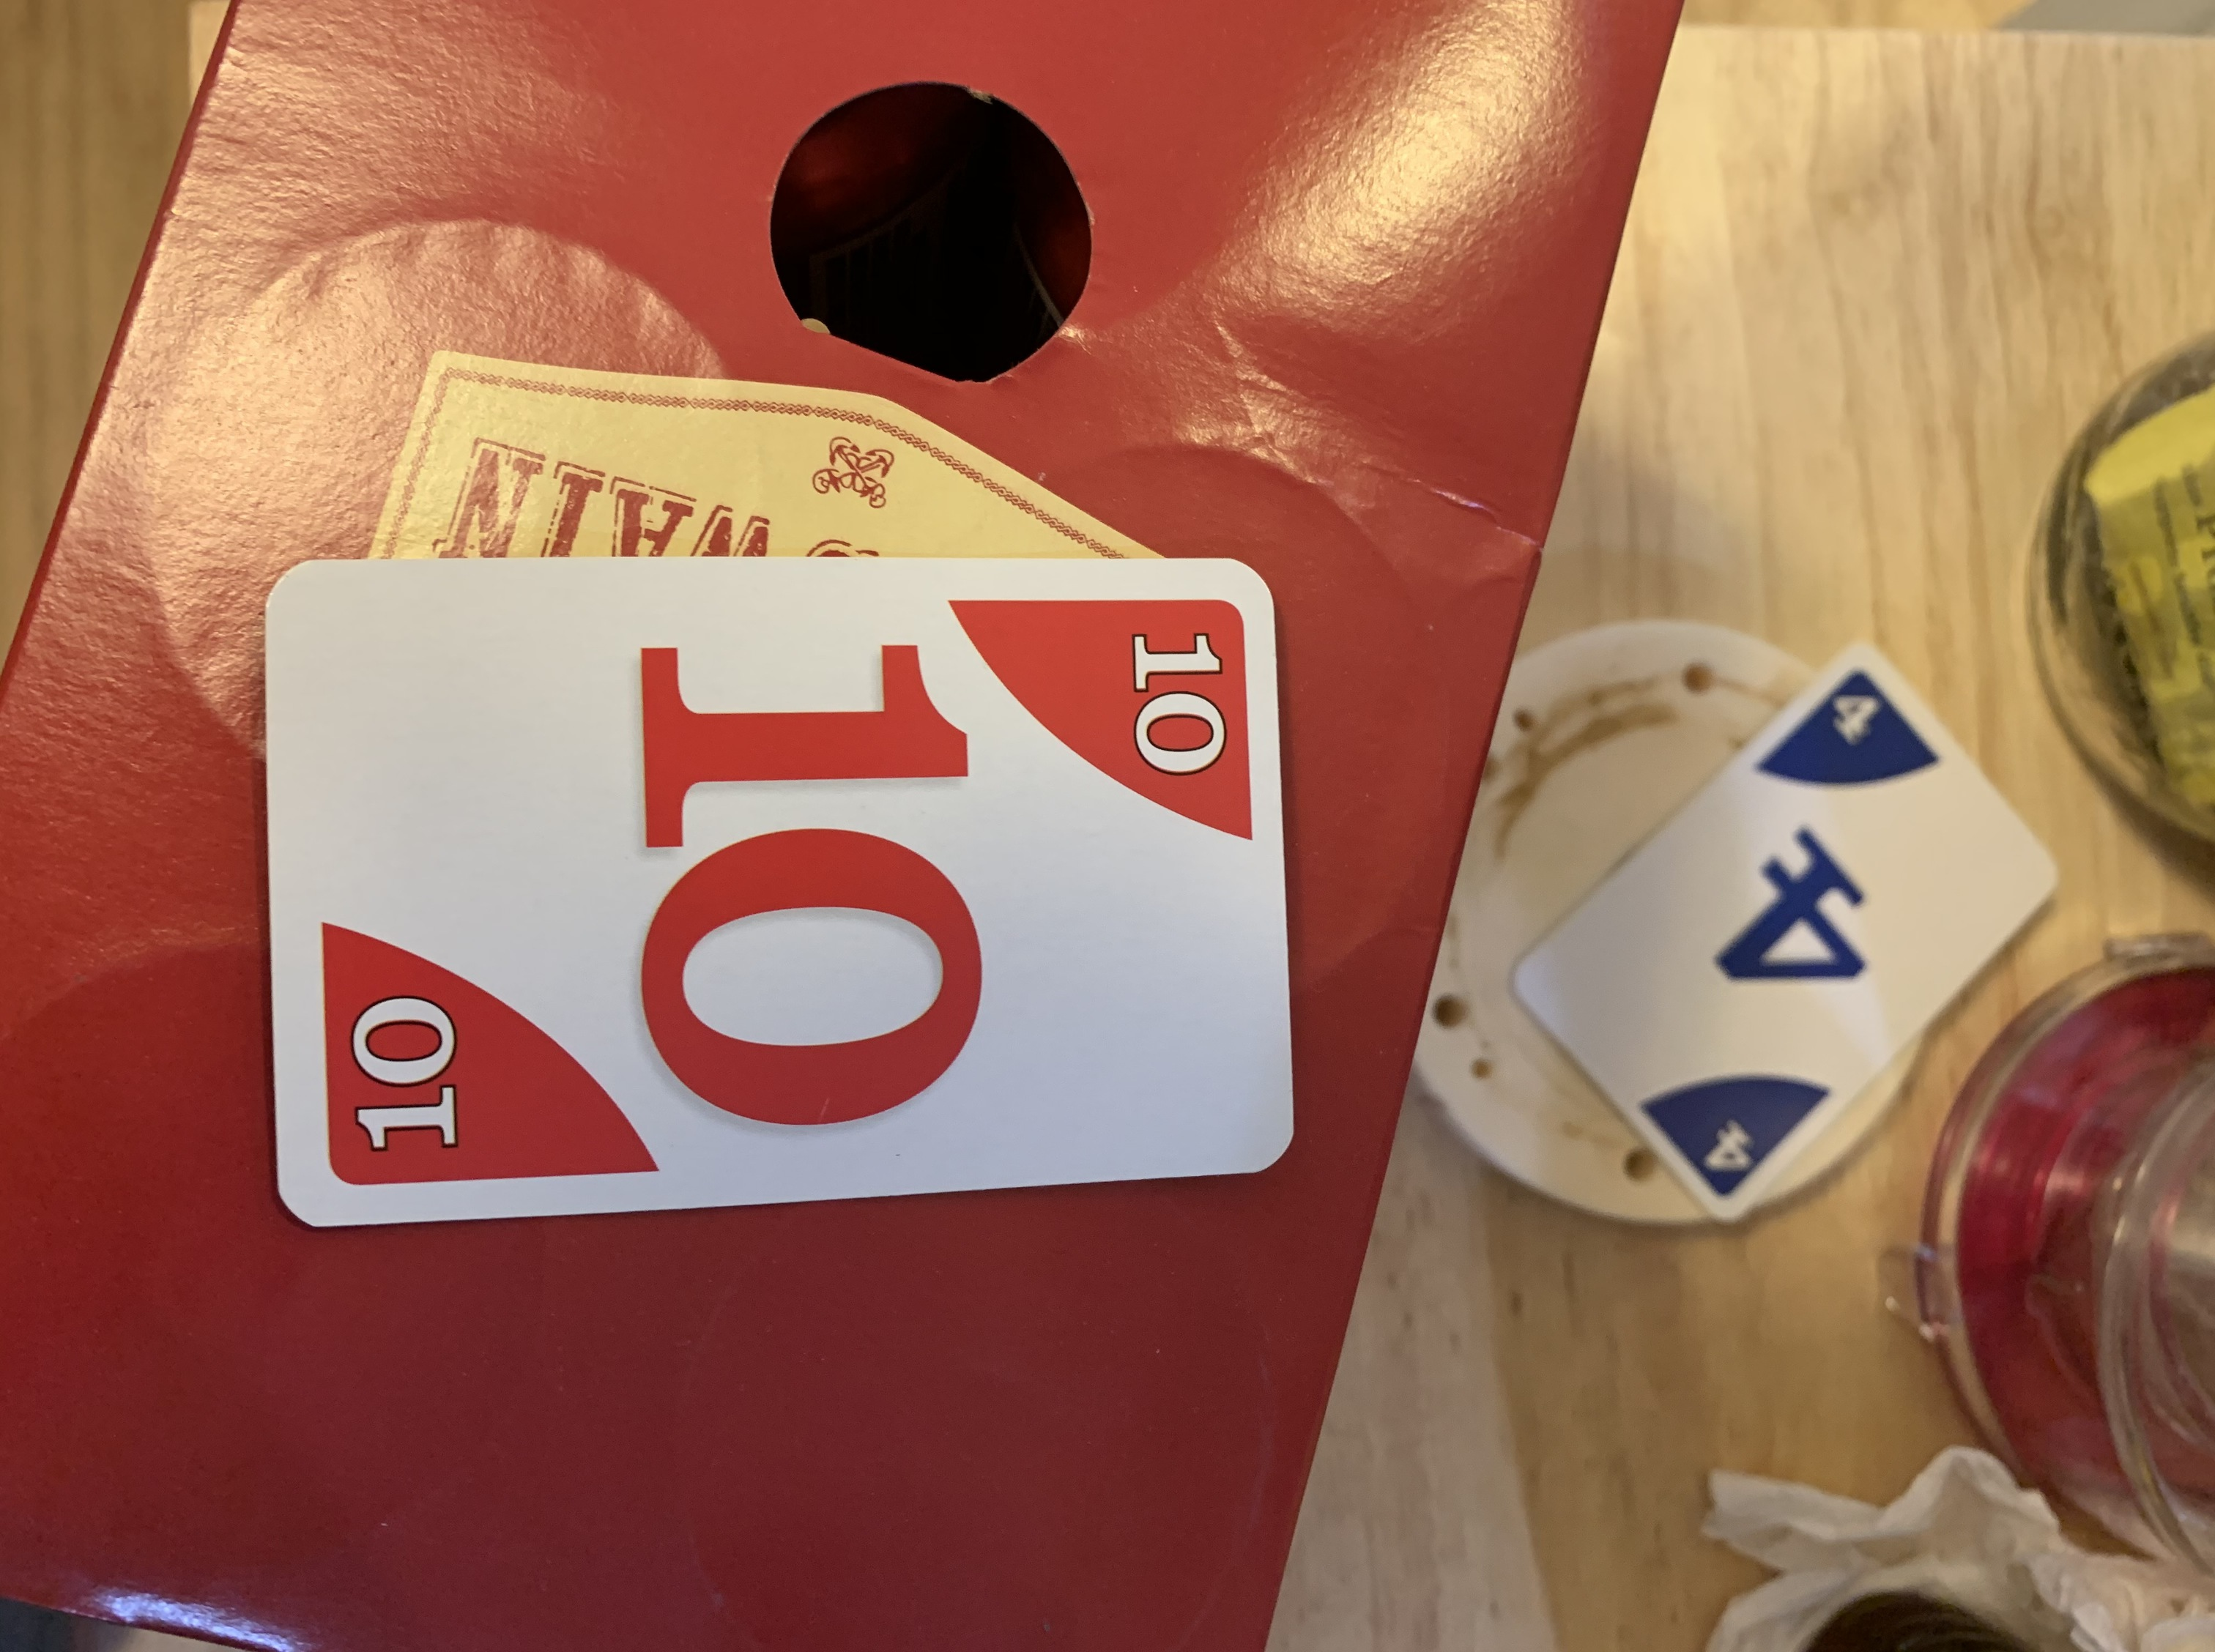ten: (233, 536, 1333, 1246)
